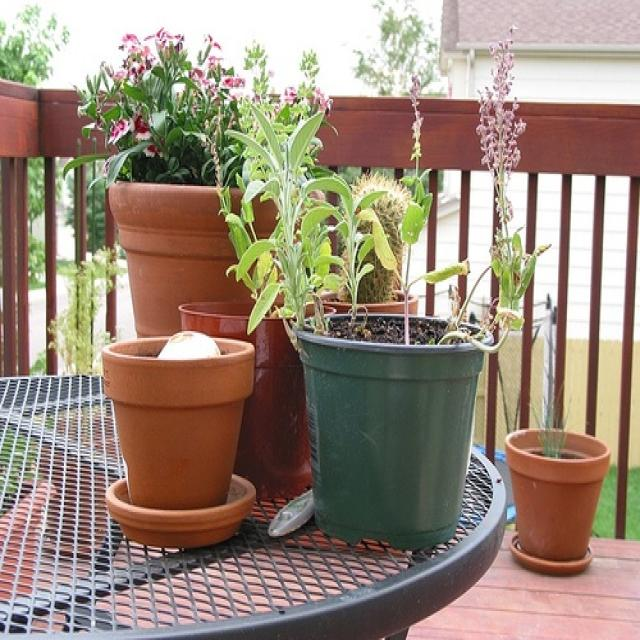pottedplant: (292, 70, 494, 548), (83, 26, 328, 338), (170, 114, 344, 497), (498, 289, 609, 575)
